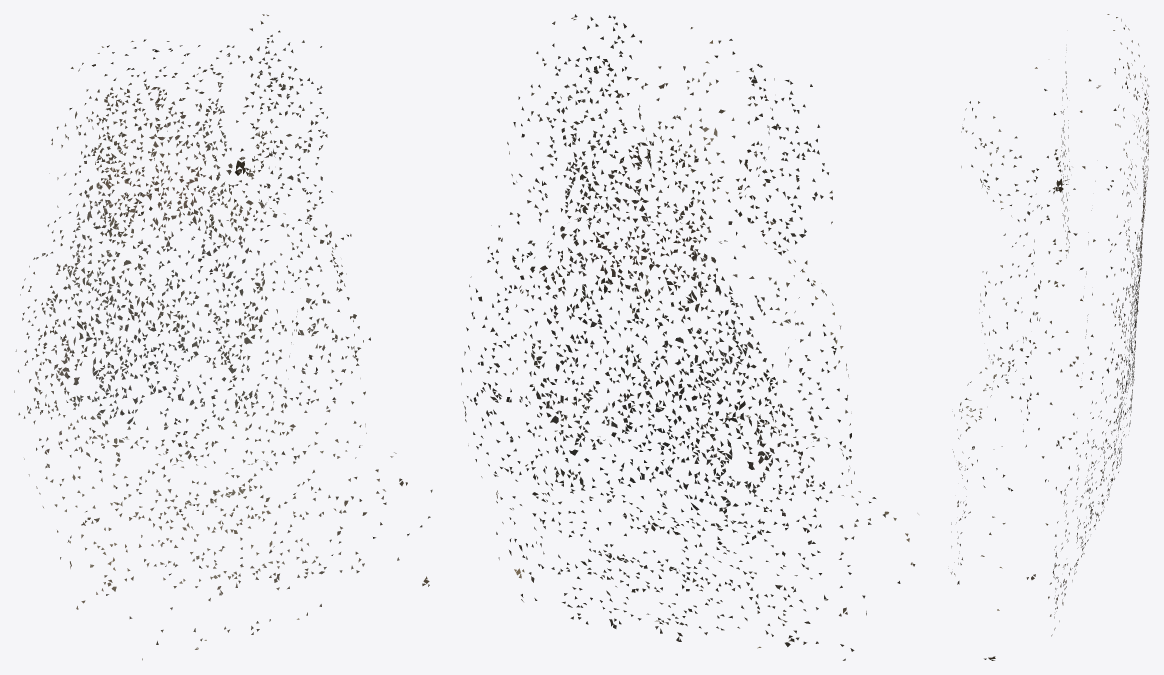
The model's file is far.glb.
3 renders of one model, left to right at view 1: azimuth 30°, elevation 25°; view 2: azimuth 150°, elevation 25°; view 3: azimuth 270°, elevation 25°, orthographic. The views are drawn at different scales.
Parts seen in each view (by area): view 1: statue-034; view 2: statue-034; view 3: statue-034.
Boxes of the visible parts, x1=… form: statue-034: x1=14, y1=14, x2=432, y2=660; statue-034: x1=461, y1=14, x2=918, y2=660; statue-034: x1=948, y1=14, x2=1149, y2=660.
Bounding box in the file's own units: 0.6617 × 0.9931 × 0.3397.
Materials: 1 (1 with a texture image).
